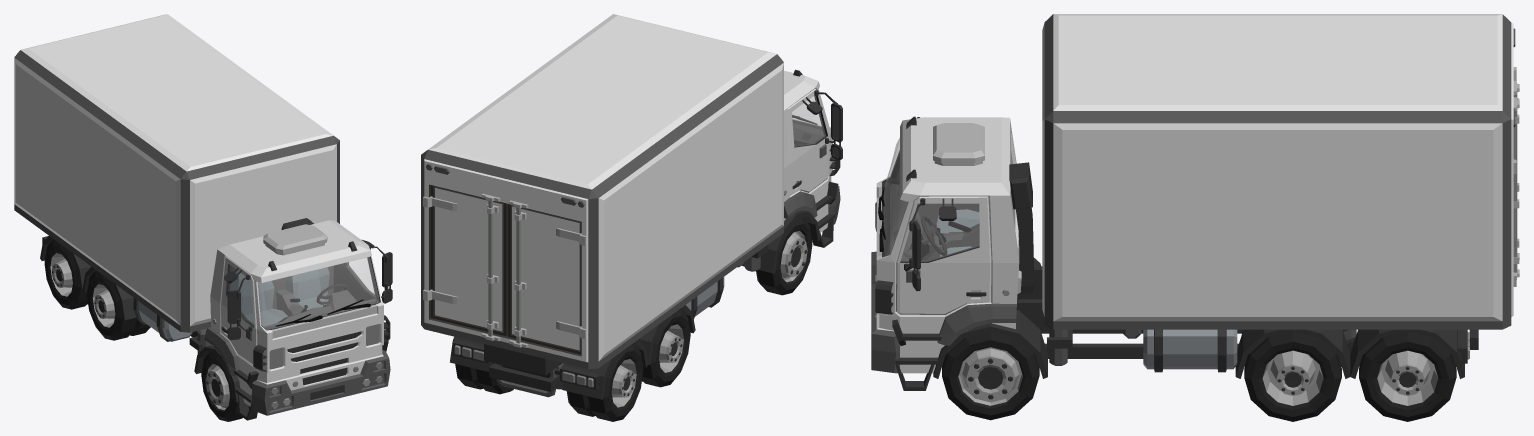
The model's file is box-truck.glb.
3 views of the same model, side by side, from view 1: azimuth 30°, elevation 25°; view 2: azimuth 150°, elevation 25°; view 3: azimuth 270°, elevation 25° (orthographic). The views are drawn at different scales.
Parts seen in each view (by area): view 1: box-truck; view 2: box-truck; view 3: box-truck.
Boxes of the visible parts, x1=… form: box-truck: x1=14, y1=14, x2=392, y2=421; box-truck: x1=421, y1=14, x2=842, y2=421; box-truck: x1=871, y1=14, x2=1519, y2=421.
Bounding box in the file's own units: 2.75 × 3.76 × 6.95.
Materials: 2 (1 with a texture image).
